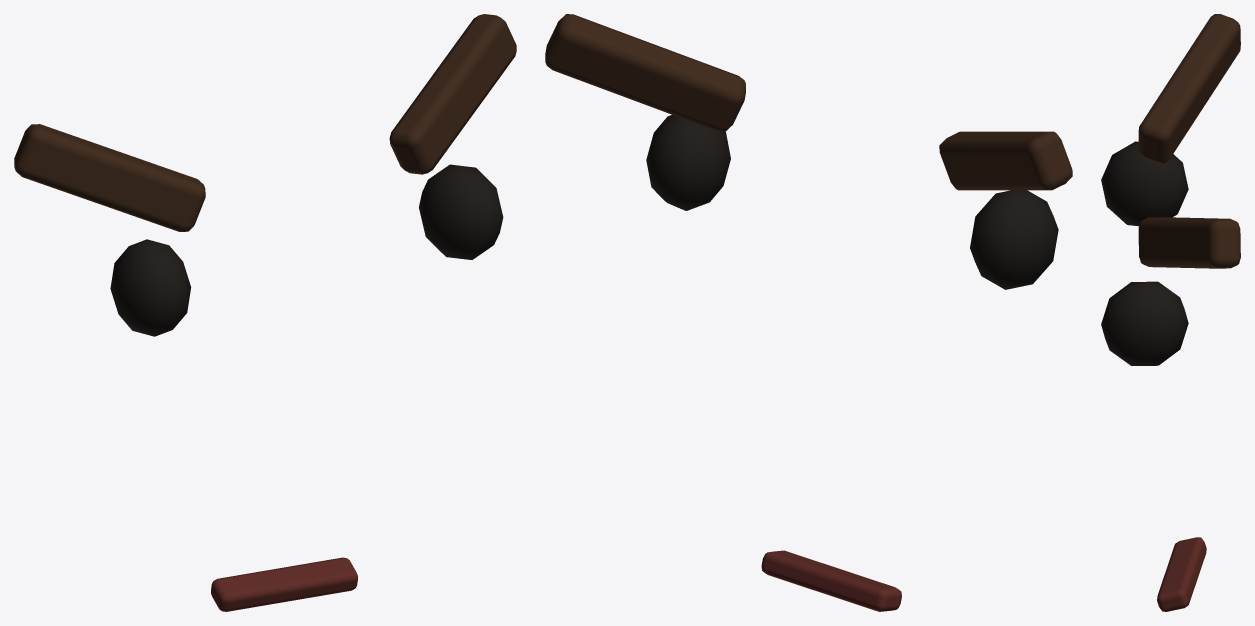
File: 07-focused.glb
The picture shows the model from 3 angles, left to right: view 1: azimuth 30°, elevation 25°; view 2: azimuth 150°, elevation 25°; view 3: azimuth 270°, elevation 25°; orthographic projection. The views are drawn at different scales.
Visible parts, largest first — view 1: Face07_Brow-1, Face07_Brow1, Face07_Eye1, Face07_Eye-1, Face07_Mouth; view 2: Face07_Brow1, Face07_Brow-1, Face07_Eye-1, Face07_Eye1, Face07_Mouth; view 3: Face07_Brow-1, Face07_Eye1, Face07_Brow1, Face07_Eye-1, Face07_Mouth.
Boxes of the visible parts, box(x1,y1,x2,y2) form: Face07_Brow-1: box(14, 124, 205, 231); Face07_Brow1: box(389, 14, 516, 174); Face07_Eye1: box(419, 164, 503, 259); Face07_Eye-1: box(110, 239, 191, 336); Face07_Mouth: box(211, 557, 357, 611); Face07_Brow1: box(545, 14, 745, 131); Face07_Brow-1: box(939, 131, 1072, 190); Face07_Eye-1: box(970, 190, 1058, 289); Face07_Eye1: box(646, 115, 730, 210); Face07_Mouth: box(761, 550, 901, 611); Face07_Brow-1: box(1138, 14, 1240, 163); Face07_Eye1: box(1101, 281, 1188, 365); Face07_Brow1: box(1138, 217, 1240, 268); Face07_Eye-1: box(1101, 141, 1188, 226); Face07_Mouth: box(1157, 537, 1206, 611).
Bounding box in the file's own units: 0.2987 × 0.2918 × 0.0789.
